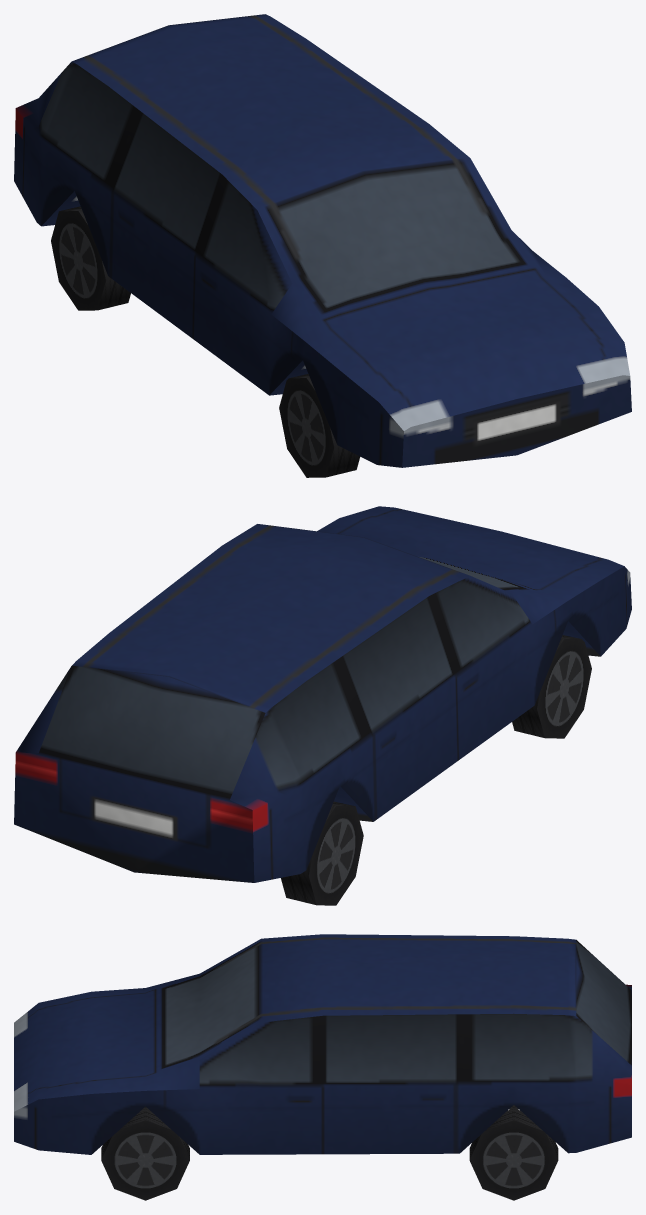
The model's file is SM_Morin_Auto_C_Col_v2_BluScuro_LOD2.fbx.
3 views of the same model, one above another, from view 1: azimuth 30°, elevation 25°; view 2: azimuth 150°, elevation 25°; view 3: azimuth 270°, elevation 25° (orthographic). The views are drawn at different scales.
Parts seen in each view (by area): view 1: SM_Morin_Auto_C_Col_v2_BluScuro_LOD2; view 2: SM_Morin_Auto_C_Col_v2_BluScuro_LOD2; view 3: SM_Morin_Auto_C_Col_v2_BluScuro_LOD2.
Boxes of the visible parts, x1,y1,x2,y2 form: SM_Morin_Auto_C_Col_v2_BluScuro_LOD2: (14, 14, 631, 477); SM_Morin_Auto_C_Col_v2_BluScuro_LOD2: (14, 506, 631, 905); SM_Morin_Auto_C_Col_v2_BluScuro_LOD2: (14, 934, 631, 1200).
Size of the model in its own units: 178 by 445 by 147.
1 material, 1 textured.
